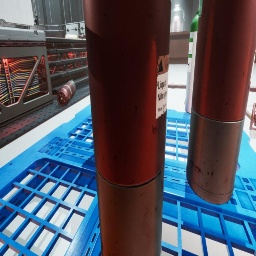0: (185, 0, 200, 114), (65, 34, 79, 39)
FireExtinguisher ]: (184, 100, 185, 104)
FirstAidBox ,: (78, 33, 86, 39)
NitrogenTank ,: (83, 0, 172, 256), (186, 0, 256, 205), (57, 80, 76, 107), (249, 103, 256, 131)
